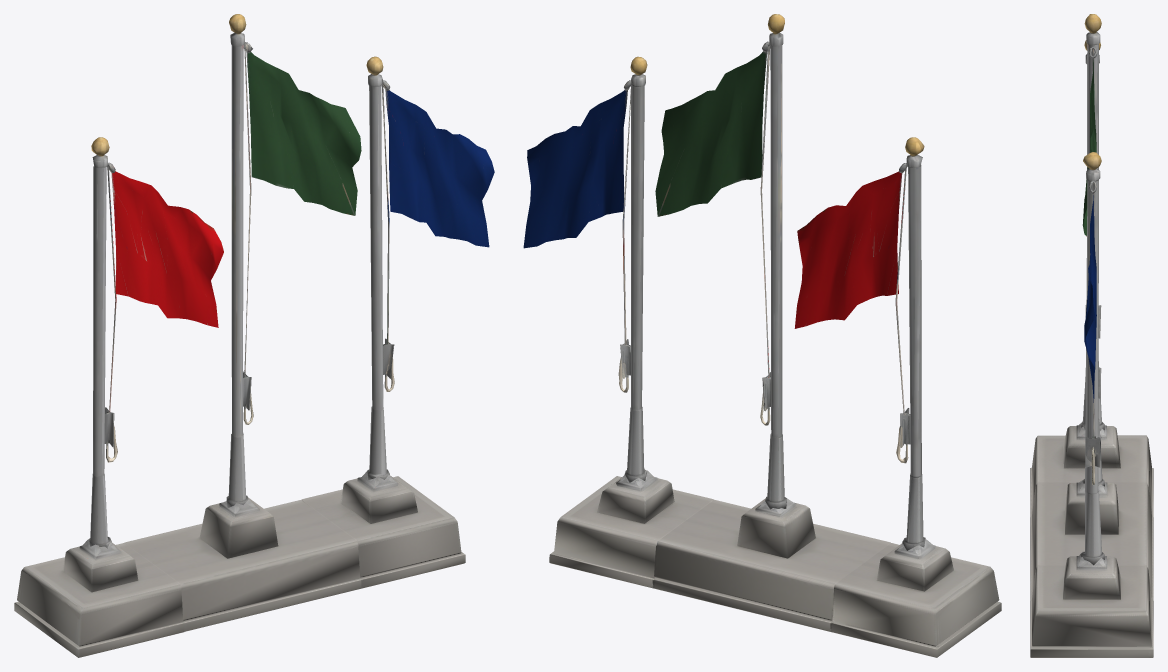
The model's file is flagpole.glb.
3 views of the same model, side by side, from view 1: azimuth 30°, elevation 25°; view 2: azimuth 150°, elevation 25°; view 3: azimuth 270°, elevation 25° (orthographic). The views are drawn at different scales.
Bounding box in the file's own units: 0.7725 × 0.9517 × 0.1929.
Materials: 1 (1 with a texture image).
